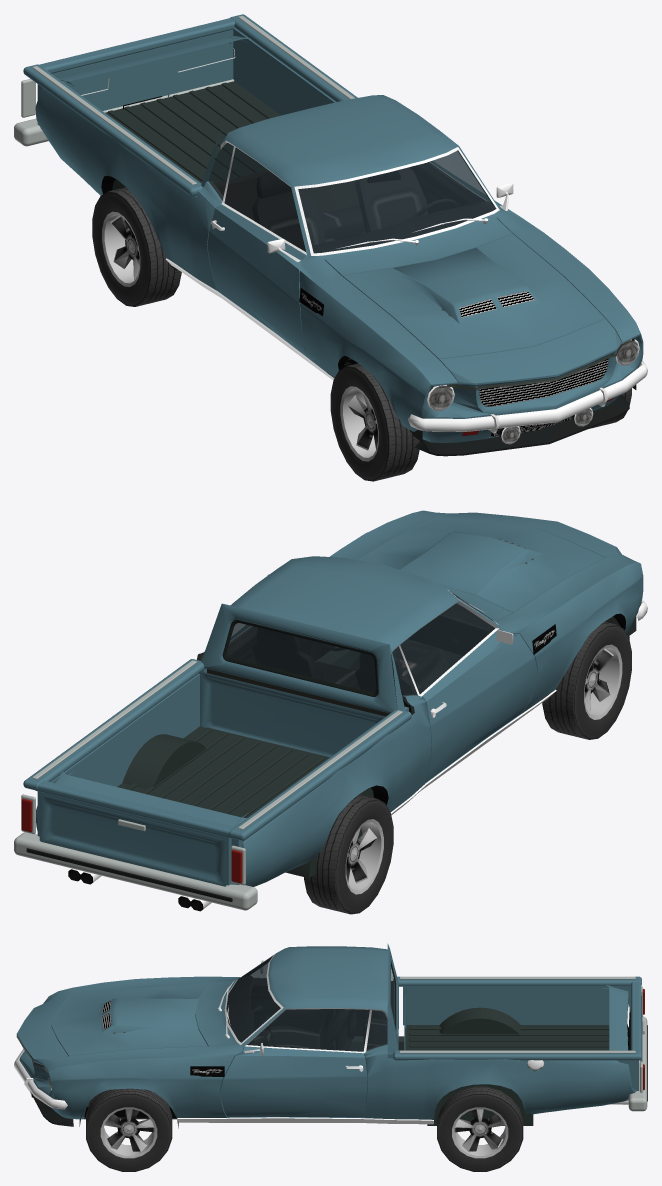
The model's file is utility.glb.
The picture shows the model from 3 angles, top to bottom: view 1: azimuth 30°, elevation 25°; view 2: azimuth 150°, elevation 25°; view 3: azimuth 270°, elevation 25°; orthographic projection. The views are drawn at different scales.
Parts seen in each view (by area): view 1: panel_hood_95_79, panel_BodyRoof_99_83, glass_Windshield_57_52, panel_BodyDoorL_119_103, panel_RearQuarterL_120_104, panel_TailgateInner, panel_FrontFenderL_121_105, panel_BedFloor, glass_BodyDoorL_59_53, Wheel_138, Wheel_132, panel_BedInnerSide1 (+31 smaller); view 2: panel_hood_95_79, panel_BodyRoof_99_83, panel_BodyDoorL_119_103, panel_RearQuarterL_120_104, panel_TailgateOuter, panel_BedHeadwall, panel_CabRearUpper, panel_BedFloor, panel_FrontFenderL_121_105, glass_Rear, Wheel_138, panel_BedInnerSide1 (+28 smaller); view 3: panel_hood_95_79, panel_BodyDoorR_112_96, panel_RearQuarterR_113_97, panel_BodyRoof_99_83, panel_BedInnerSide-1, panel_FrontFenderR_114_98, glass_BodyDoorR_56_51, Wheel_129, Wheel_135, panel_BedFloor, detail_65_58, glass_Windshield_57_52 (+29 smaller).
Part boxes in pixels (x1=…): panel_hood_95_79: x1=329, y1=230, x2=634, y2=385; panel_BodyRoof_99_83: x1=223, y1=95, x2=480, y2=223; glass_Windshield_57_52: x1=315, y1=155, x2=491, y2=252; panel_BodyDoorL_119_103: x1=191, y1=181, x2=319, y2=366; panel_RearQuarterL_120_104: x1=35, y1=88, x2=199, y2=279; panel_TailgateInner: x1=52, y1=29, x2=233, y2=110; panel_FrontFenderL_121_105: x1=308, y1=283, x2=431, y2=439; panel_BedFloor: x1=105, y1=81, x2=280, y2=183; glass_BodyDoorL_59_53: x1=216, y1=147, x2=321, y2=253; Wheel_138: x1=92, y1=187, x2=181, y2=306; Wheel_132: x1=330, y1=363, x2=419, y2=481; panel_BedInnerSide1: x1=233, y1=28, x2=335, y2=115; panel_hood_95_79: x1=348, y1=512, x2=633, y2=616; panel_BodyRoof_99_83: x1=230, y1=556, x2=480, y2=653; panel_BodyDoorL_119_103: x1=404, y1=622, x2=544, y2=794; panel_RearQuarterL_120_104: x1=243, y1=713, x2=420, y2=886; panel_TailgateOuter: x1=39, y1=794, x2=226, y2=886; panel_BedHeadwall: x1=199, y1=671, x2=385, y2=757; panel_CabRearUpper: x1=201, y1=603, x2=397, y2=713; panel_BedFloor: x1=117, y1=726, x2=329, y2=817; panel_FrontFenderL_121_105: x1=533, y1=562, x2=643, y2=705; glass_Rear: x1=226, y1=623, x2=376, y2=692; Wheel_138: x1=304, y1=794, x2=393, y2=914; panel_BedInnerSide1: x1=37, y1=673, x2=199, y2=836; panel_hood_95_79: x1=16, y1=980, x2=210, y2=1069; panel_BodyDoorR_112_96: x1=210, y1=1044, x2=387, y2=1118; panel_RearQuarterR_113_97: x1=387, y1=1058, x2=633, y2=1119; panel_BodyRoof_99_83: x1=261, y1=946, x2=387, y2=1028; panel_BedInnerSide-1: x1=403, y1=986, x2=630, y2=1025; panel_FrontFenderR_114_98: x1=49, y1=1056, x2=210, y2=1119; glass_BodyDoorR_56_51: x1=239, y1=1002, x2=375, y2=1051; Wheel_129: x1=86, y1=1088, x2=172, y2=1171; Wheel_135: x1=437, y1=1086, x2=523, y2=1171; panel_BedFloor: x1=405, y1=1025, x2=609, y2=1050; detail_65_58: x1=49, y1=953, x2=433, y2=1124; glass_Windshield_57_52: x1=226, y1=955, x2=273, y2=1039.
Size of the model in its own units: 1.83 by 1.51 by 5.51.
26 materials, 9 textured.
